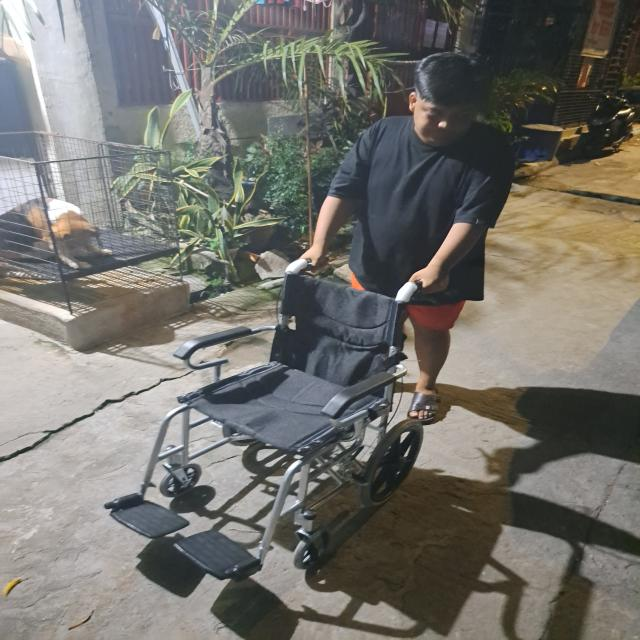wheelchairs: (105, 256, 432, 606)
